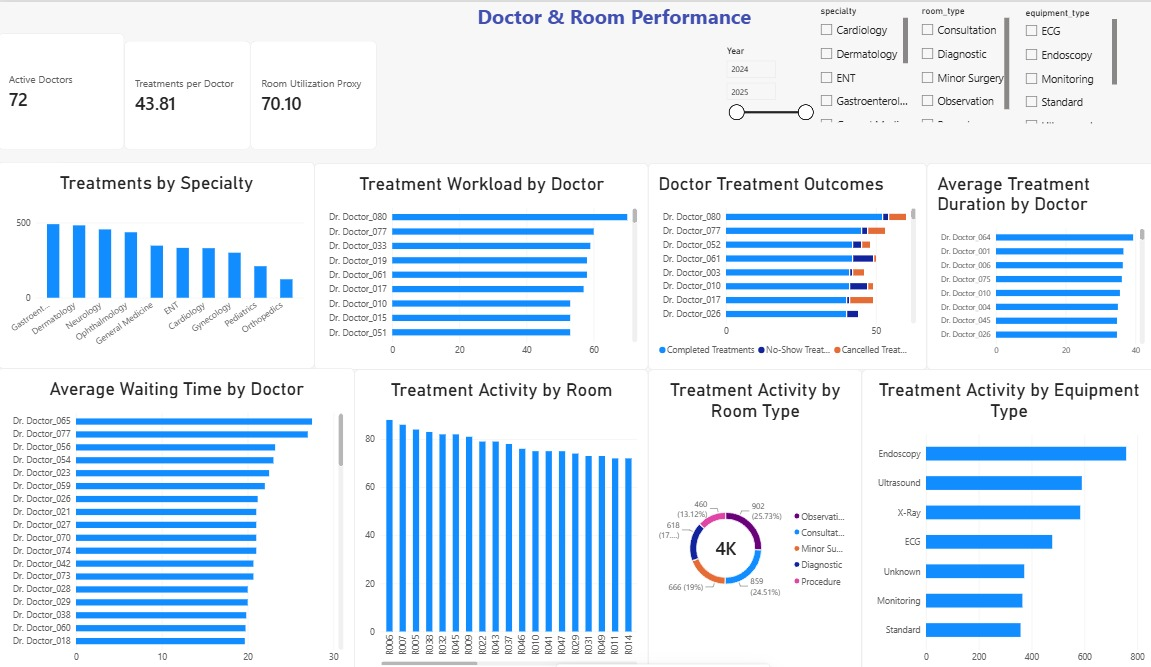

The page's visual inventory and layout, read from the dashboard file:
{"tool":"powerbi","page":{"name":"Doctor & Room Performance","canvas":[1920,1080],"ordinal":6},"visuals":[{"type":"textbox","box":[458,0,1028,100],"z":0},{"type":"cardVisual","fields":{"Data":["doctors.Active Doctors"]},"box":[0,50,202,186],"z":2},{"type":"cardVisual","fields":{"Data":["doctors.Treatments per Doctor"]},"box":[202,62,202,174],"z":3},{"type":"cardVisual","fields":{"Data":["doctors.Room Utilization Proxy"]},"box":[404,62,202,174],"z":4},{"type":"columnChart","title":"Treatments by Specialty","fields":{"Category":["doctors.specialty"],"Y":["treatments.Total Treatments"]},"box":[0,256,506,330],"z":5},{"type":"barChart","title":"Treatment Workload by Doctor","fields":{"Category":["doctors.doctor_name"],"Y":["treatments.Total Treatments"]},"box":[506,258,534,330],"z":6},{"type":"barChart","title":"Average Waiting Time by Doctor","fields":{"Category":["doctors.doctor_name"],"Y":["treatments.Average Waiting Time - Multiple Attempts"]},"box":[0,586,570,494],"z":8},{"type":"columnChart","title":"Treatment Activity by Room","fields":{"Category":["rooms.room_id"],"Y":["treatments.Total Treatments"]},"box":[570,588,470,492],"z":9},{"type":"donutChart","title":"Treatment Activity by Room Type","fields":{"Category":["rooms.room_type"],"Y":["treatments.Total Treatments"]},"box":[1040,588,342,492],"z":10},{"type":"barChart","title":"Treatment Activity by Equipment Type","fields":{"Category":["rooms.equipment_type"],"Y":["treatments.Total Treatments"]},"box":[1382,588,470,492],"z":11},{"type":"slicer","fields":{"Values":["date_table.Year"]},"box":[1158,70,150,186],"z":12},{"type":"slicer","fields":{"Values":["doctors.specialty"]},"box":[1308,6,148,186],"z":13},{"type":"slicer","fields":{"Values":["rooms.room_type"]},"box":[1470,6,148,186],"z":14},{"type":"slicer","fields":{"Values":["rooms.equipment_type"]},"box":[1636,8,154,186],"z":15},{"type":"barChart","title":"Doctor Treatment Outcomes","fields":{"Category":["doctors.doctor_name"],"Y":["treatments.Completed Treatments","treatments.No-Show Treatments","treatments.Cancelled Treatments"]},"box":[1040,258,446,330],"z":16},{"type":"barChart","title":"Average Treatment Duration by Doctor","fields":{"Category":["doctors.doctor_name"],"Y":["treatments.Average Treatment Duration"]},"box":[1486,258,366,330],"z":17}]}

Visuals, with their boxes in screenshot pixels (x1, y1, x2, y2), scaled from the page's 1920x1080 canvas onto the 1151x667 screenshot:
textbox: [275,0,891,62]
cardVisual - doctors.Active Doctors: [0,31,121,146]
cardVisual - doctors.Treatments per Doctor: [121,38,242,146]
cardVisual - doctors.Room Utilization Proxy: [242,38,363,146]
"Treatments by Specialty" columnChart: [0,158,303,362]
"Treatment Workload by Doctor" barChart: [303,159,623,363]
"Average Waiting Time by Doctor" barChart: [0,362,342,666]
"Treatment Activity by Room" columnChart: [342,363,623,666]
"Treatment Activity by Room Type" donutChart: [623,363,828,666]
"Treatment Activity by Equipment Type" barChart: [828,363,1110,666]
slicer - date_table.Year: [694,43,784,158]
slicer - doctors.specialty: [784,4,873,119]
slicer - rooms.room_type: [881,4,970,119]
slicer - rooms.equipment_type: [981,5,1073,120]
"Doctor Treatment Outcomes" barChart: [623,159,891,363]
"Average Treatment Duration by Doctor" barChart: [891,159,1110,363]
